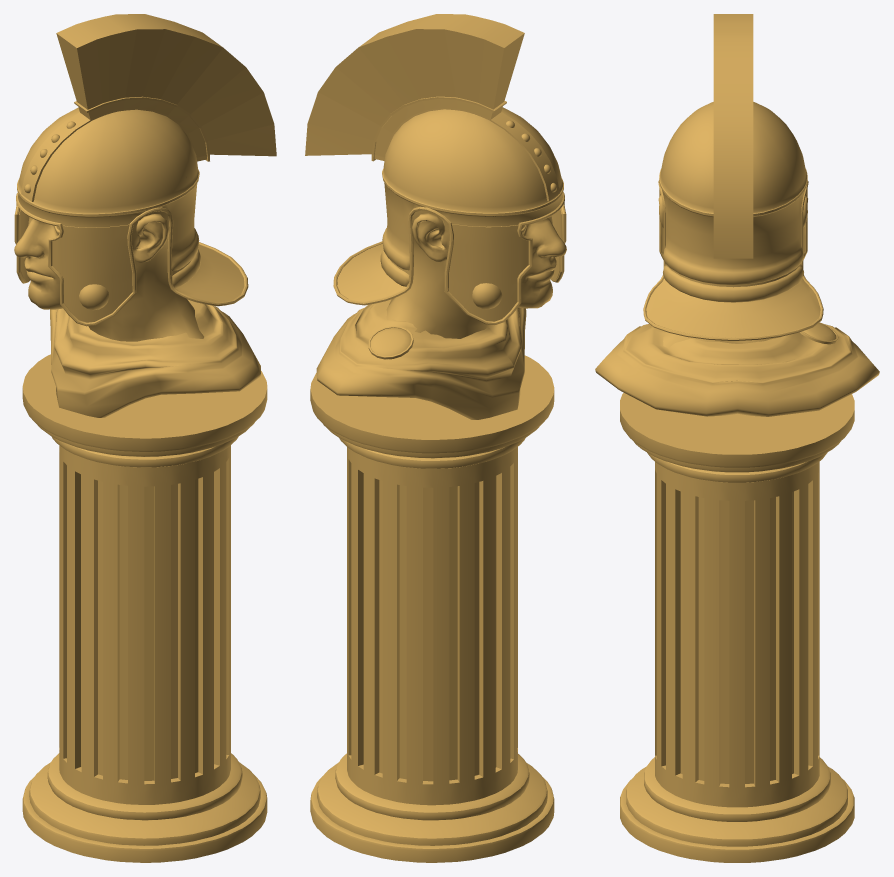
The model's file is greek-statue.glb.
The picture shows the model from 3 angles, left to right: view 1: azimuth 30°, elevation 25°; view 2: azimuth 150°, elevation 25°; view 3: azimuth 270°, elevation 25°; orthographic projection. The views are drawn at different scales.
Visible parts, largest first — view 1: miner_polySurface1; view 2: miner_polySurface1; view 3: miner_polySurface1.
Boxes of the visible parts, x1=… form: miner_polySurface1: x1=14, y1=14, x2=276, y2=862; miner_polySurface1: x1=305, y1=14, x2=566, y2=862; miner_polySurface1: x1=595, y1=14, x2=879, y2=862.
Bounding box in the file's own units: 0.9236 × 2.8 × 0.9425.
